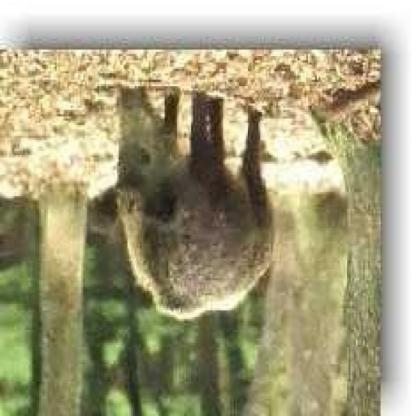boar: (106, 73, 293, 349)
